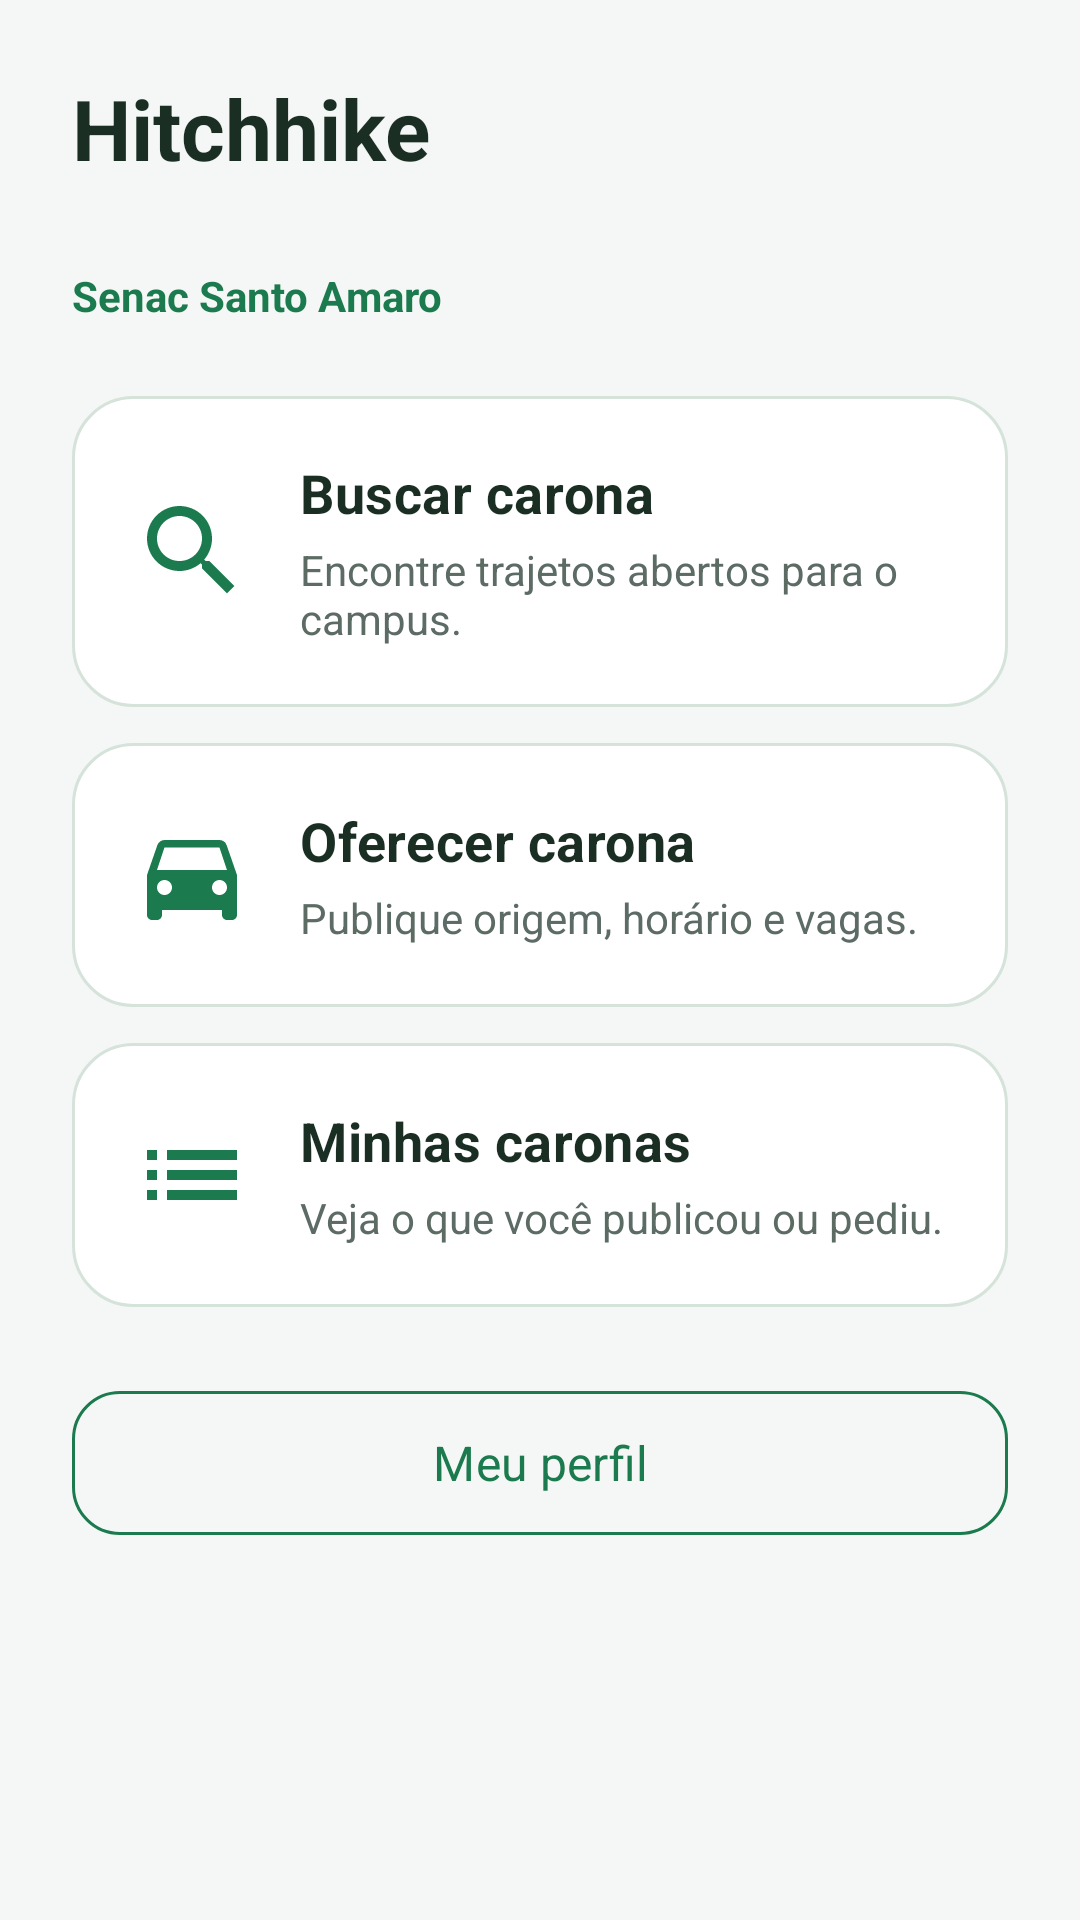

Named icons in this screenshot (1080 × 1920) and their centers, (x,y):
car: (192,880)
list: (192,1175)
search: (190,549)
